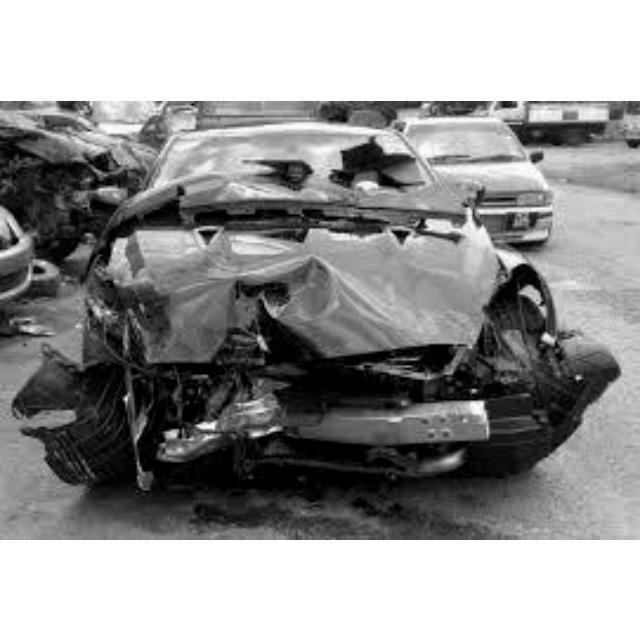Front-windscreen-damage: (190, 127, 421, 204)
bonnet-dent: (138, 211, 499, 333)
front-bumper-dent: (166, 348, 470, 456)
